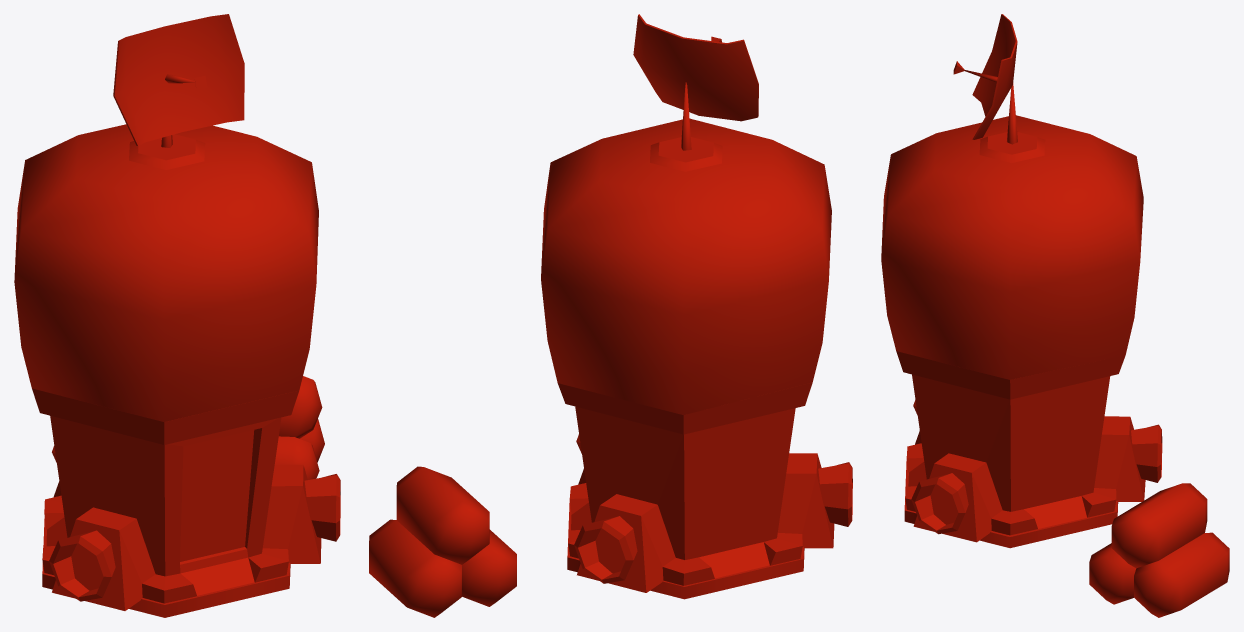
Rendered from (RED) Command Center -- Low (MAP) (attached exported).FBX.
3 views of the same model, side by side, from view 1: azimuth 30°, elevation 25°; view 2: azimuth 150°, elevation 25°; view 3: azimuth 270°, elevation 25° (orthographic). The views are drawn at different scales.
Parts seen in each view (by area): view 1: Glass Dome, Security Center (Building); view 2: Security Center (Building), Glass Dome; view 3: Glass Dome, Security Center (Building).
Boxes of the visible parts, left/top/right/bottom form: Glass Dome: left=14, top=124, right=318, bottom=421; Security Center (Building): left=32, top=14, right=340, bottom=617; Security Center (Building): left=369, top=14, right=852, bottom=617; Glass Dome: left=541, top=118, right=831, bottom=415; Glass Dome: left=881, top=115, right=1143, bottom=379; Security Center (Building): left=896, top=14, right=1229, bottom=617.
Size of the model in its own units: 99.92 by 138 by 89.34.
